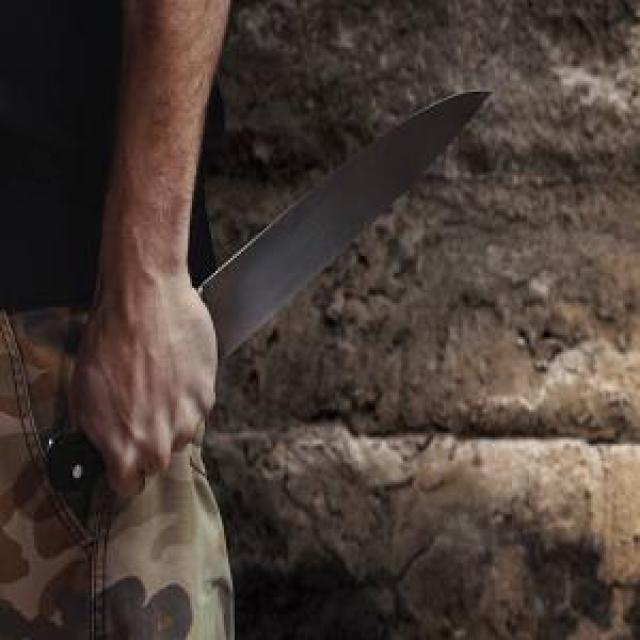knife: (43, 85, 496, 498)
